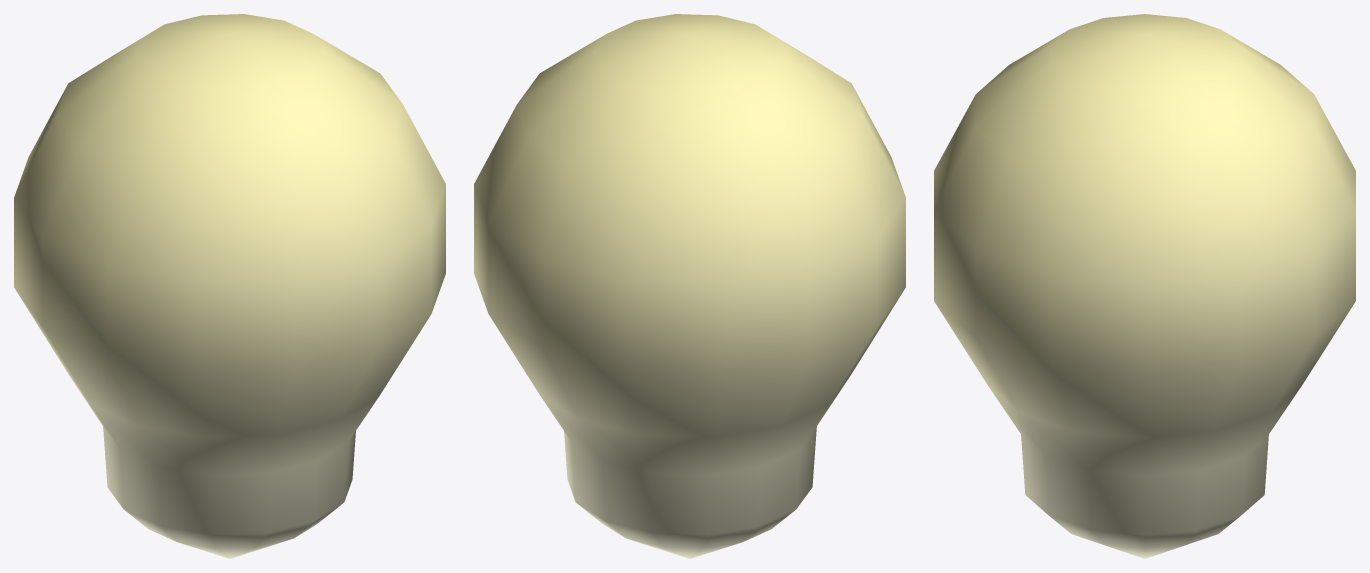
File: lightbulb_on.fbx
The picture shows the model from 3 angles, left to right: view 1: azimuth 30°, elevation 25°; view 2: azimuth 150°, elevation 25°; view 3: azimuth 270°, elevation 25°; orthographic projection.
Visible parts, largest first — view 1: lightbulb_1; view 2: lightbulb_1; view 3: lightbulb_1.
Boxes of the visible parts, x1,y1,x2,y2 form: lightbulb_1: (14, 14, 445, 558); lightbulb_1: (474, 14, 905, 558); lightbulb_1: (934, 14, 1355, 558).
Bounding box in the file's own units: 57.39 × 76.69 × 55.95.
Materials: 1 (1 with a texture image).
